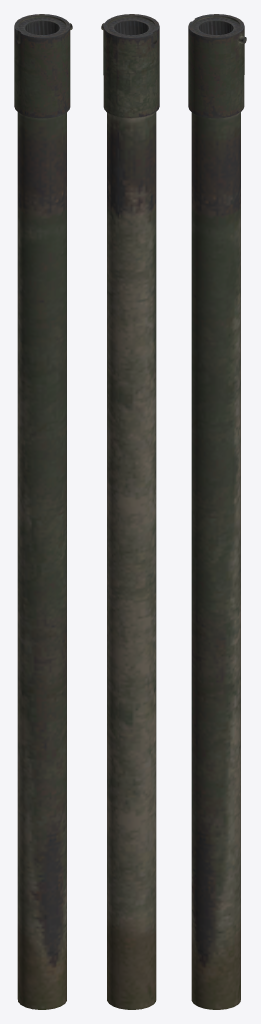
The model's file is Gun_01.glb.
3 renders of one model, left to right at view 1: azimuth 30°, elevation 25°; view 2: azimuth 150°, elevation 25°; view 3: azimuth 330°, elevation 25°, orthographic.
Parts seen in each view (by area): view 1: set_0_group_0; view 2: set_0_group_0; view 3: set_0_group_0.
Part boxes in pixels (x1,y1,x2,y2): set_0_group_0: (14, 14, 72, 1009); set_0_group_0: (101, 14, 159, 1009); set_0_group_0: (188, 14, 246, 1009).
Bounding box in the file's own units: 0.1888 × 3.33 × 0.1762.
1 material, 1 textured.
